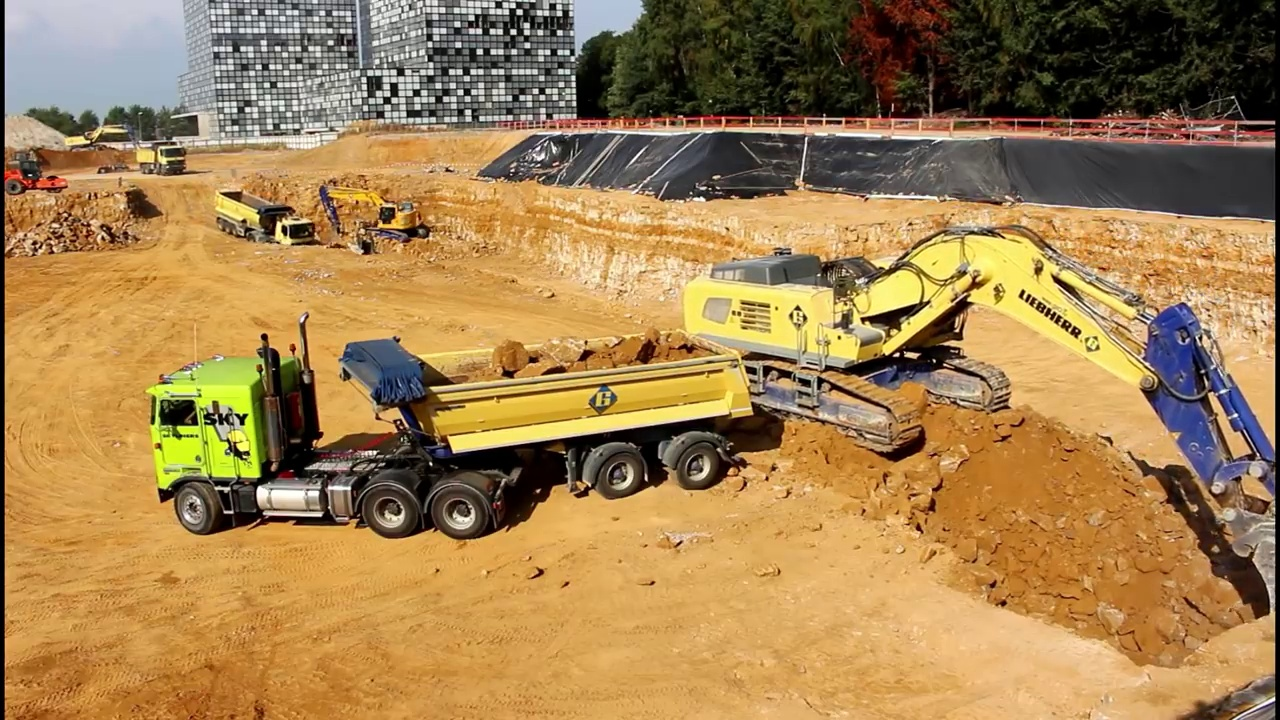compactor: (2, 154, 68, 202)
excavator: (659, 216, 1280, 630), (314, 174, 433, 250), (63, 119, 139, 161)
truck: (142, 309, 763, 547), (211, 185, 318, 258), (122, 137, 192, 181)
